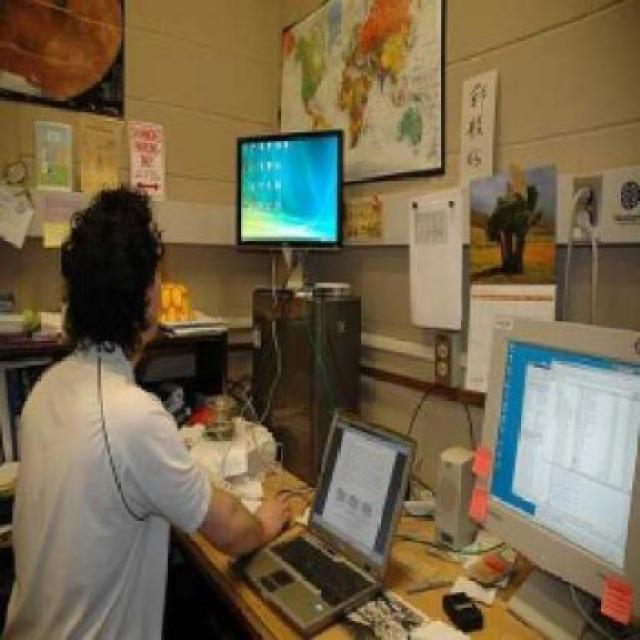mause: (428, 582, 492, 630)
